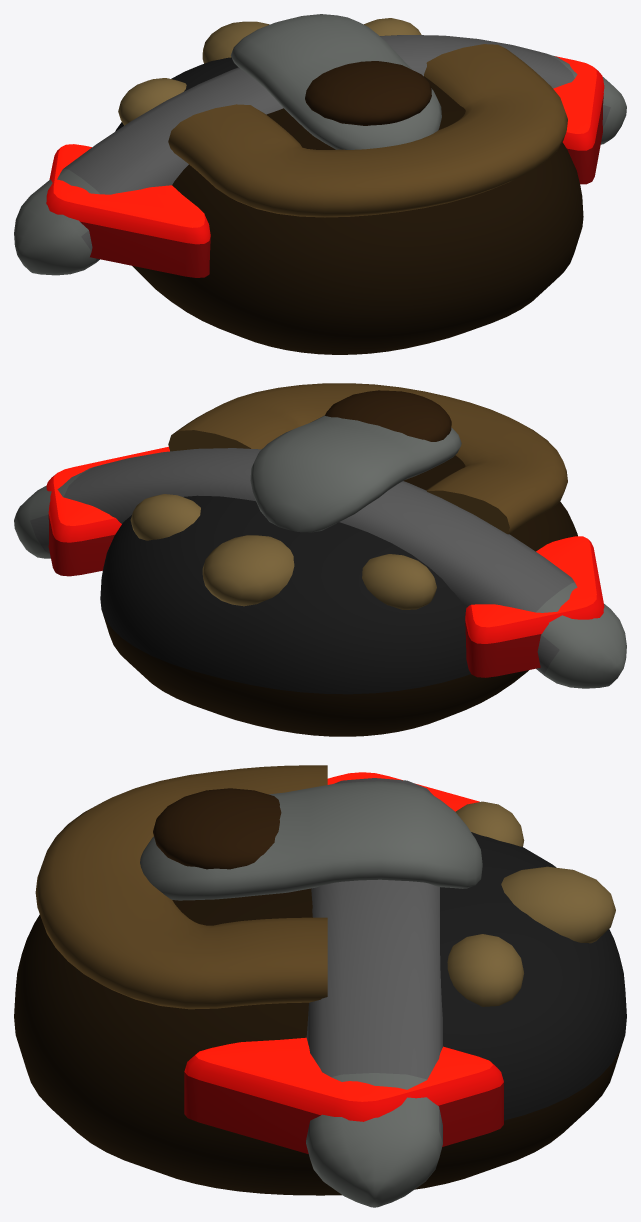
File: pod_167.glb
3 renders of one model, top to bottom at view 1: azimuth 30°, elevation 25°; view 2: azimuth 150°, elevation 25°; view 3: azimuth 270°, elevation 25°, orthographic. The views are drawn at different scales.
Parts seen in each view (by area): view 1: shell, horseshoe, bar, visor, vane-1, lens, vane1, knob1, knob0, knob2; view 2: shell, bar, horseshoe, visor, vane-1, vane1, knob0, lens, knob1, knob2; view 3: shell, horseshoe, bar, visor, vane1, lens, knob0, knob2, knob1, vane-1.
Part boxes in pixels (bbox=[...]): shell: bbox=[115, 57, 583, 354]; horseshoe: bbox=[168, 44, 567, 217]; bar: bbox=[14, 35, 626, 275]; visor: bbox=[230, 14, 441, 149]; vane-1: bbox=[46, 144, 210, 277]; lens: bbox=[305, 61, 431, 125]; vane1: bbox=[553, 56, 604, 184]; knob1: bbox=[118, 78, 186, 125]; knob0: bbox=[202, 21, 269, 63]; knob2: bbox=[364, 18, 421, 35]; shell: bbox=[100, 455, 577, 736]; bar: bbox=[14, 448, 626, 688]; horseshoe: bbox=[168, 383, 567, 534]; visor: bbox=[250, 415, 461, 532]; vane-1: bbox=[465, 536, 604, 677]; vane1: bbox=[46, 446, 169, 576]; knob0: bbox=[202, 535, 294, 606]; lens: bbox=[325, 390, 451, 441]; knob1: bbox=[362, 554, 436, 609]; knob2: bbox=[130, 494, 200, 540]; shell: bbox=[14, 832, 626, 1195]; horseshoe: bbox=[35, 765, 327, 1009]; bar: bbox=[306, 778, 442, 1207]; visor: bbox=[140, 781, 482, 900]; vane1: bbox=[184, 1037, 503, 1153]; lens: bbox=[153, 788, 281, 869]; knob0: bbox=[501, 866, 615, 943]; knob2: bbox=[447, 934, 523, 1006]; knob1: bbox=[455, 801, 524, 846]; vane-1: bbox=[327, 772, 479, 811].
Size of the model in its own units: 24.42 by 10.42 by 17.
